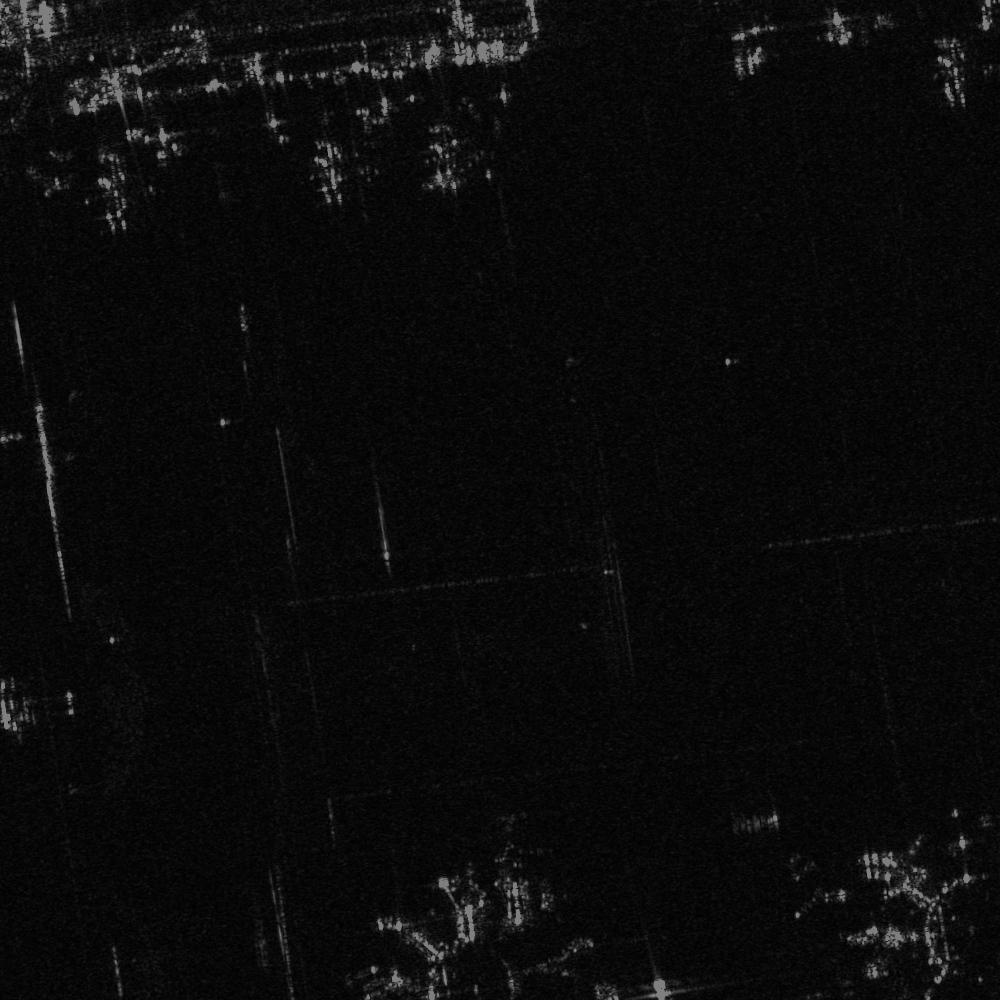A220: (803, 968, 862, 999)
Boeing787: (56, 146, 163, 236), (911, 31, 995, 109), (295, 132, 364, 205), (417, 123, 476, 193)
